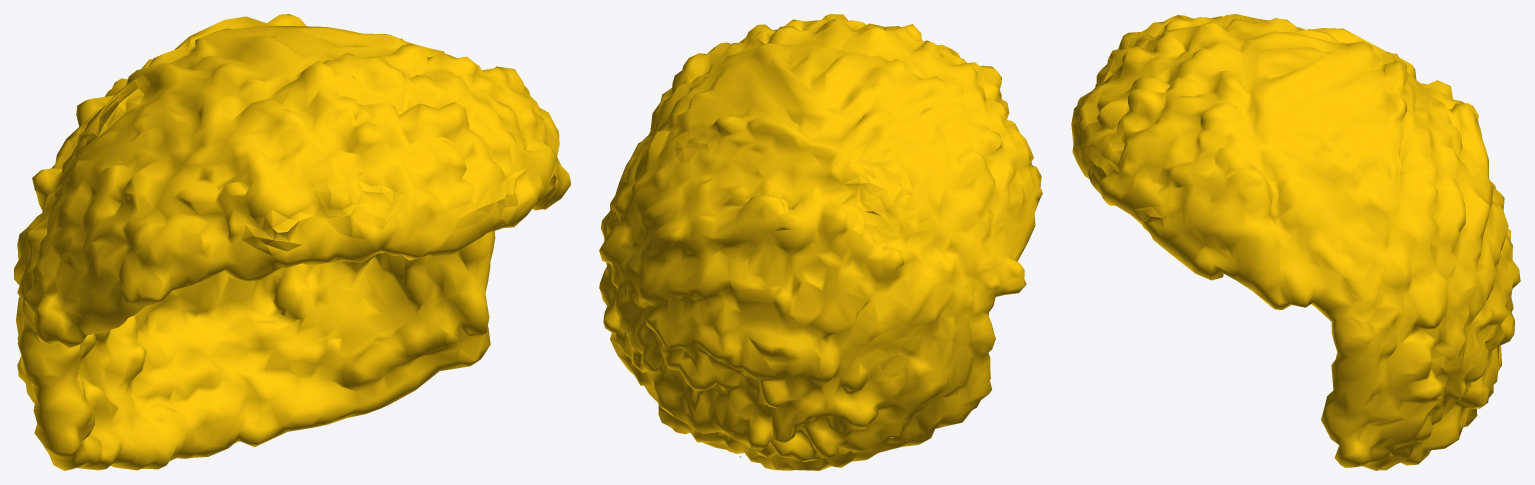
File: messy yellow ape.glb
The picture shows the model from 3 angles, left to right: view 1: azimuth 30°, elevation 25°; view 2: azimuth 150°, elevation 25°; view 3: azimuth 270°, elevation 25°; orthographic projection. The views are drawn at different scales.
Visible parts, largest first — view 1: hair_short_messy_yellow_ape.001; view 2: hair_short_messy_yellow_ape.001; view 3: hair_short_messy_yellow_ape.001.
Part boxes in pixels (box(x1,y1,x2,y2)): hair_short_messy_yellow_ape.001: box(14, 14, 570, 470); hair_short_messy_yellow_ape.001: box(599, 14, 1042, 470); hair_short_messy_yellow_ape.001: box(1071, 14, 1520, 470).
Size of the model in its own units: 0.3483 by 0.3199 by 0.3226.
1 material, 1 textured.
